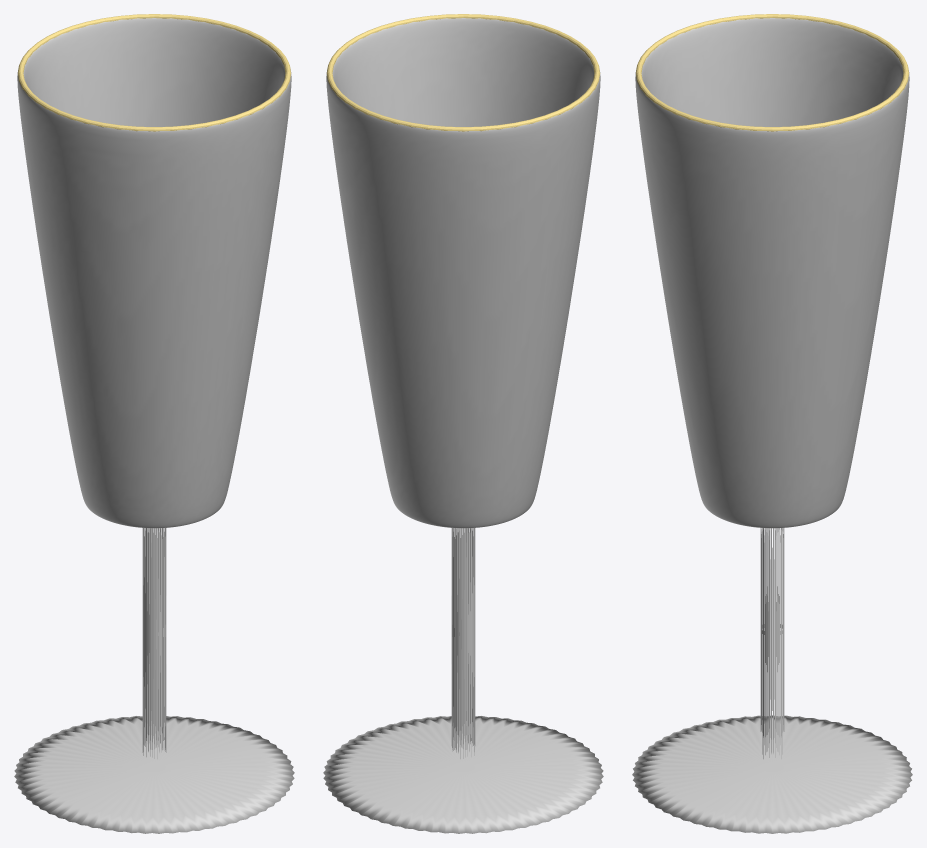
3 renders of one model, left to right at view 1: azimuth 30°, elevation 25°; view 2: azimuth 150°, elevation 25°; view 3: azimuth 270°, elevation 25°, orthographic.
Size of the model in its own units: 0.0719 by 0.2007 by 0.0719.
